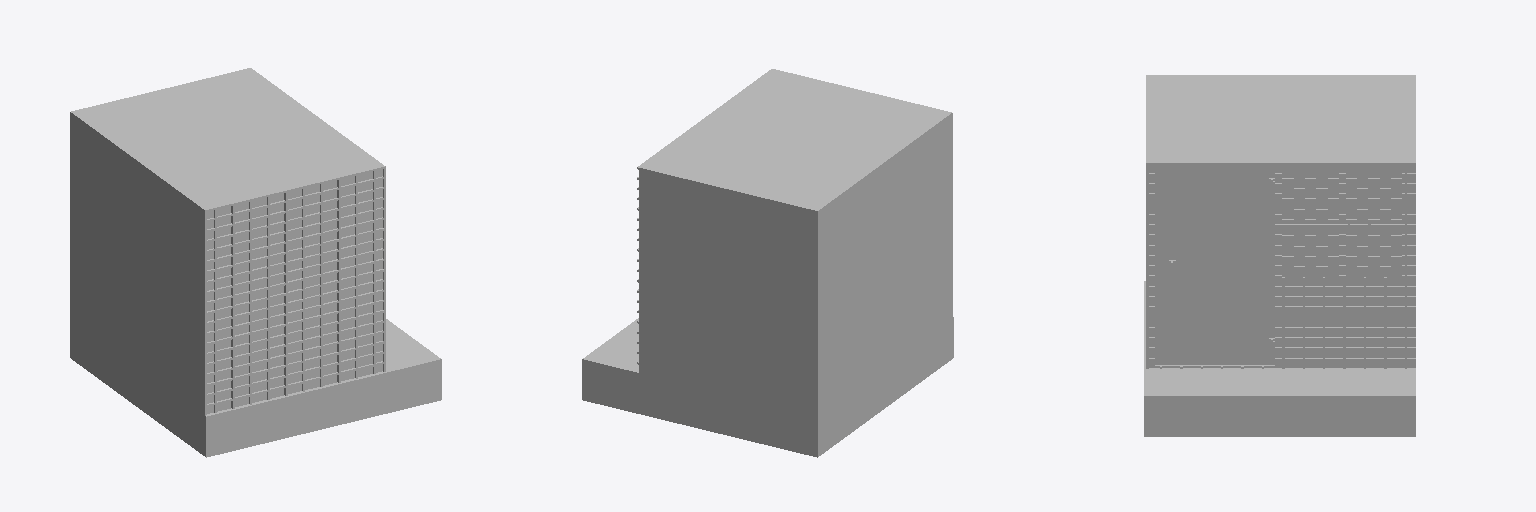
The model's file is 3d fon 1.1-7.obj.
3 views of the same model, side by side, from view 1: azimuth 30°, elevation 25°; view 2: azimuth 150°, elevation 25°; view 3: azimuth 270°, elevation 25° (orthographic).
Parts seen in each view (by area): view 1: object 1; view 2: object 1; view 3: object 1.
Boxes of the visible parts, box(x1,y1,x2,y2) form: object 1: box(70, 68, 441, 457); object 1: box(582, 69, 953, 457); object 1: box(1144, 75, 1415, 436).
Bounding box in the file's own units: 12 × 12 × 12.